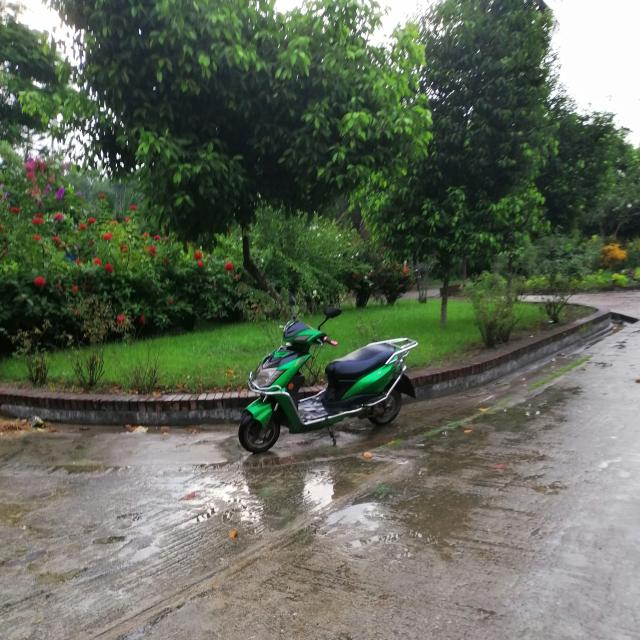Motorbike: (237, 302, 423, 460)
